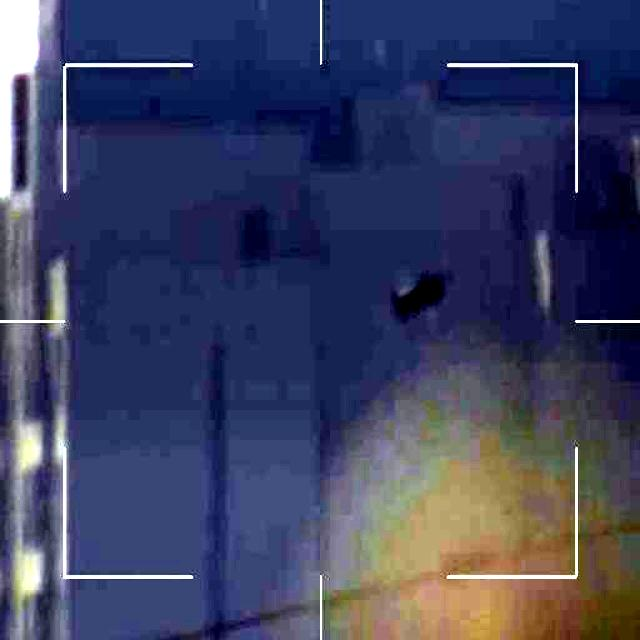bird: (389, 276, 442, 318)
